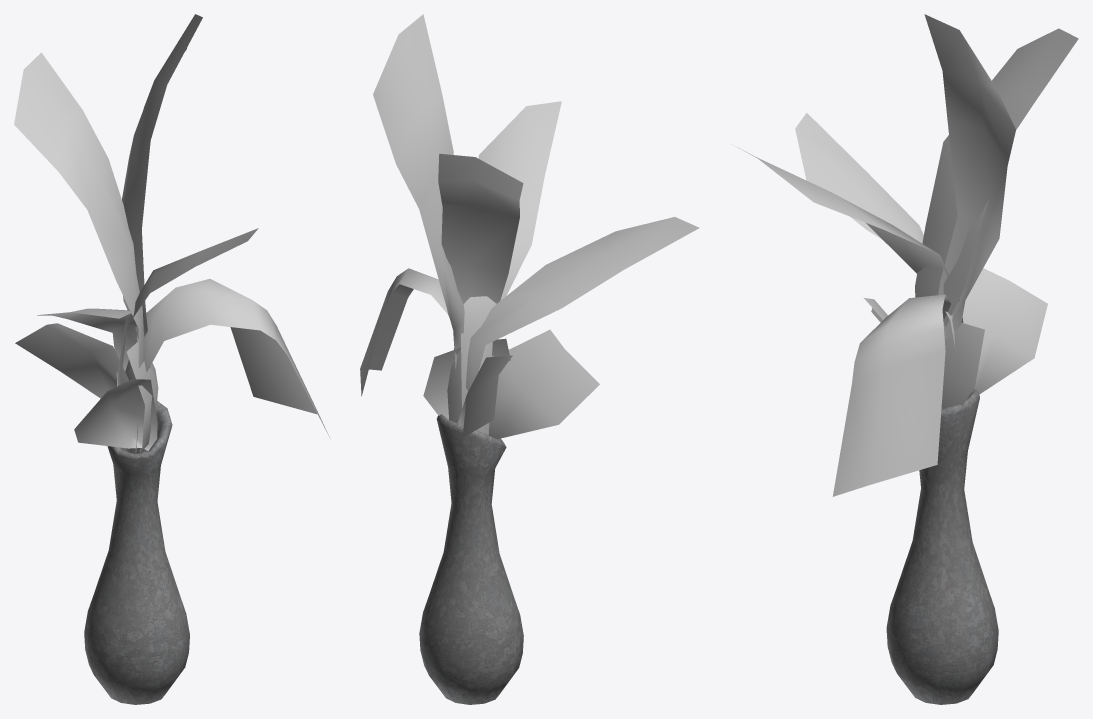
The model's file is SM_Prop_Plant_01.FBX.
3 views of the same model, side by side, from view 1: azimuth 30°, elevation 25°; view 2: azimuth 150°, elevation 25°; view 3: azimuth 270°, elevation 25° (orthographic). The views are drawn at different scales.
Parts seen in each view (by area): view 1: SM_Prop_Plant_01; view 2: SM_Prop_Plant_01; view 3: SM_Prop_Plant_01.
Part boxes in pixels (x1,y1,x2,y2): SM_Prop_Plant_01: (14,14,330,704); SM_Prop_Plant_01: (360,14,699,704); SM_Prop_Plant_01: (732,14,1078,704).
Size of the model in its own units: 1.02 by 2.07 by 0.9293.
